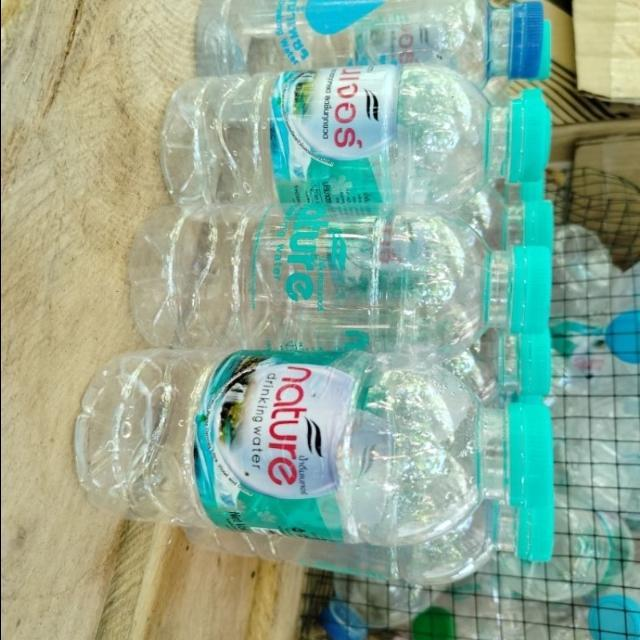PET Bottle: (63, 332, 557, 537), (110, 176, 552, 362), (164, 74, 570, 213), (179, 0, 565, 116), (199, 490, 556, 602)
